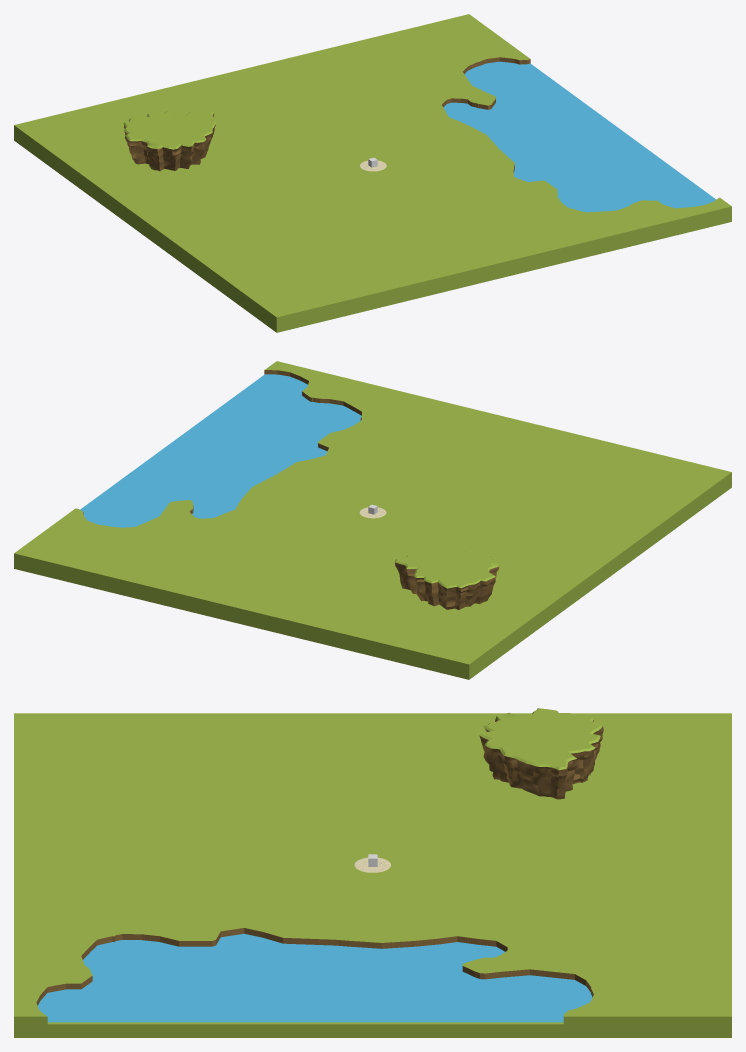
Rendered from world.glb.
3 renders of one model, top to bottom at view 1: azimuth 30°, elevation 25°; view 2: azimuth 150°, elevation 25°; view 3: azimuth 270°, elevation 25°, orthographic. The views are drawn at different scales.
Parts seen in each view (by area): view 1: Land, Water, Plane; view 2: Land, Water, Plane; view 3: Land, Water, Plane.
Boxes of the visible parts, x1,y1,x2,y2 form: Land: (14,14,731,332); Water: (443,61,715,212); Plane: (123,111,216,171); Land: (14,361,731,679); Water: (80,374,361,527); Plane: (395,548,499,609); Land: (14,713,731,1037); Water: (37,933,592,1022); Plane: (479,708,603,799).
Size of the model in its own units: 150 by 13.13 by 150.
